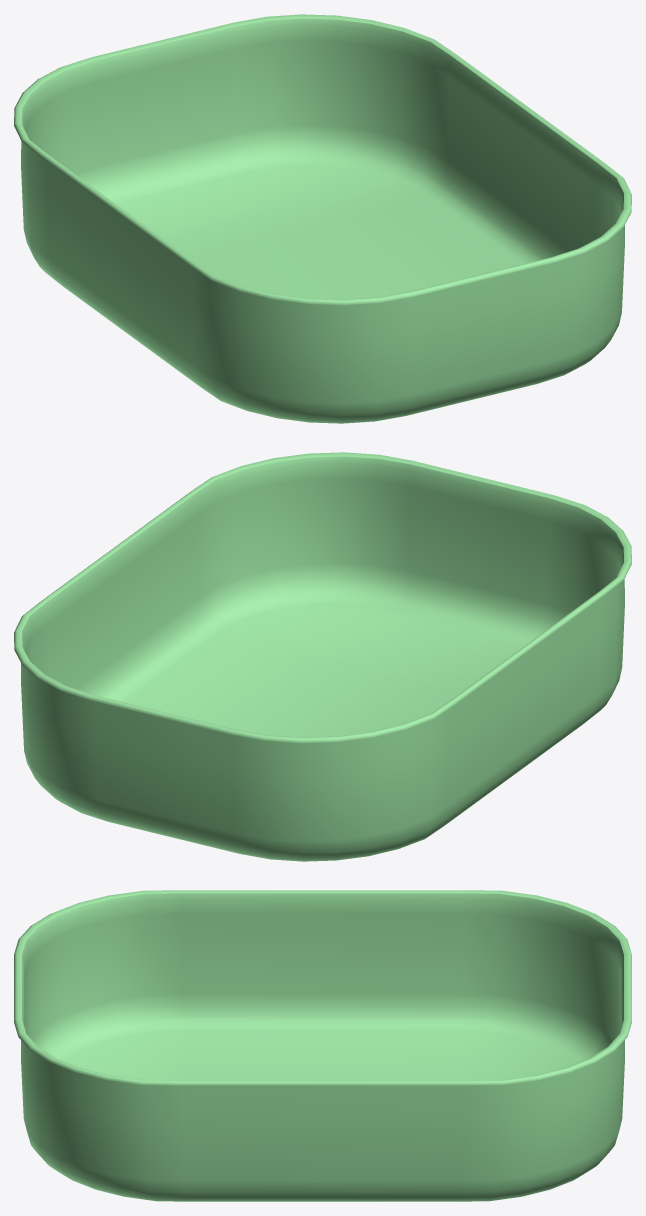
The model's file is Surgical_tray_p1.fbx.
The picture shows the model from 3 angles, top to bottom: view 1: azimuth 30°, elevation 25°; view 2: azimuth 150°, elevation 25°; view 3: azimuth 270°, elevation 25°; orthographic projection. The views are drawn at different scales.
Parts seen in each view (by area): view 1: surgical_tray_p1; view 2: surgical_tray_p1; view 3: surgical_tray_p1.
Boxes of the visible parts, left/top/right/bottom form: surgical_tray_p1: left=14, top=14, right=631, bottom=423; surgical_tray_p1: left=14, top=452, right=631, bottom=861; surgical_tray_p1: left=14, top=890, right=631, bottom=1201.
Size of the model in its own units: 0.146 by 0.0466 by 0.1976.
